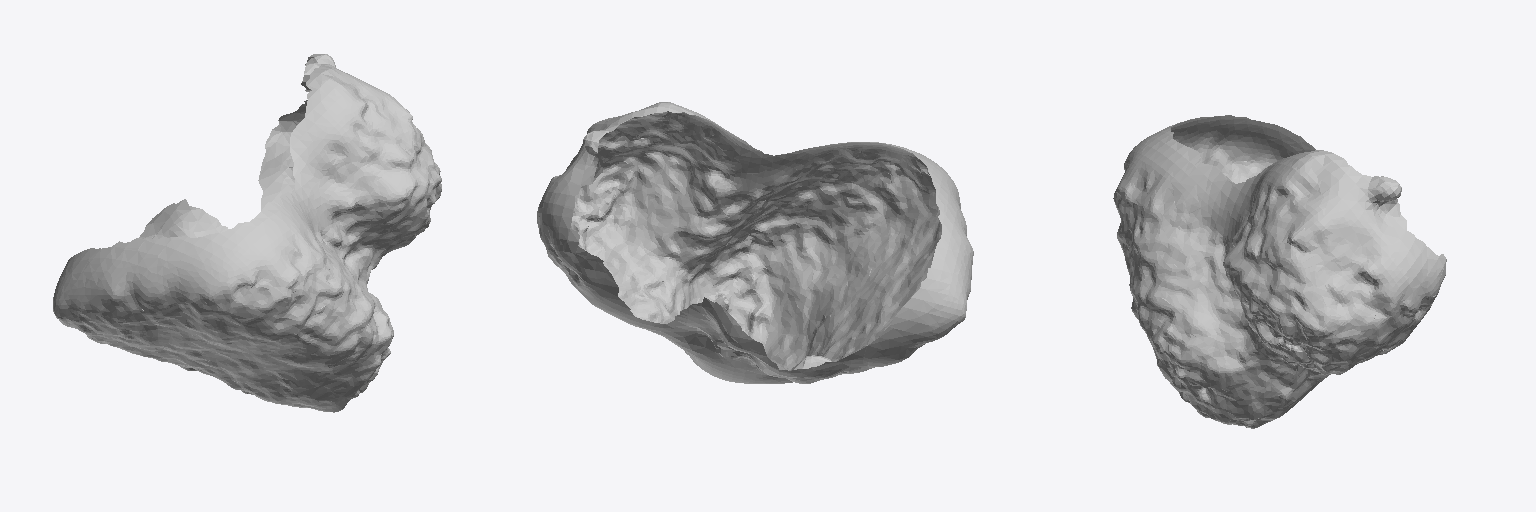
File: UHMesh44-65.obj
3 views of the same model, side by side, from view 1: azimuth 30°, elevation 25°; view 2: azimuth 150°, elevation 25°; view 3: azimuth 270°, elevation 25° (orthographic).
Size of the model in its own units: 0.1203 by 0.0833 by 0.0871.